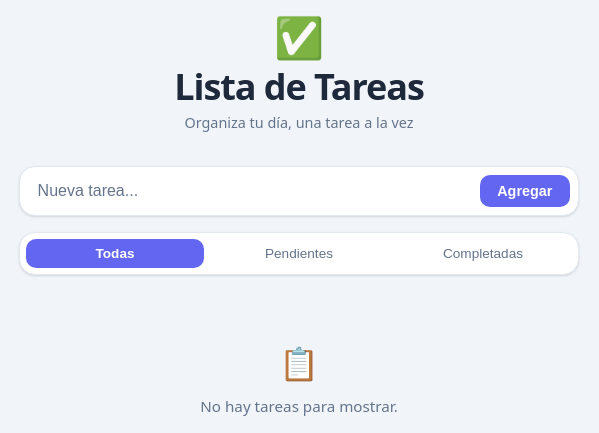
App — filtrar tareas por estado › el filtro "Completadas" muestra solo tareas completadas
Type "Tarea pendiente" into the field with placeholder "Nueva tarea...".
click(250, 191); type("Tarea pendiente")  # box [28,175,472,207]
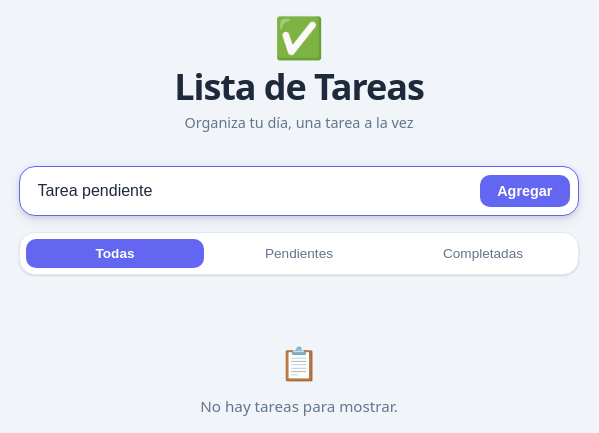
Click the button "Agregar".
click(525, 191)  # box [480,175,570,207]
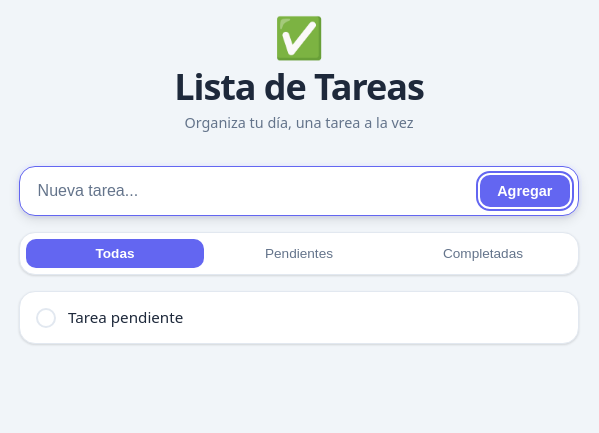
Type "Tarea completada" into the field with placeholder "Nueva tarea...".
click(250, 191); type("Tarea completada")  # box [28,175,472,207]
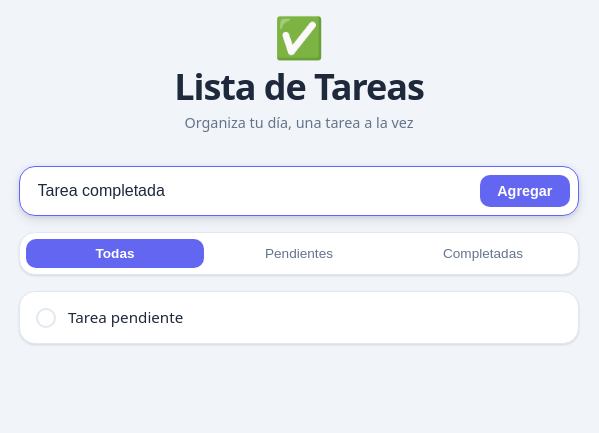
Click the button "Agregar".
click(525, 191)  # box [480,175,570,207]
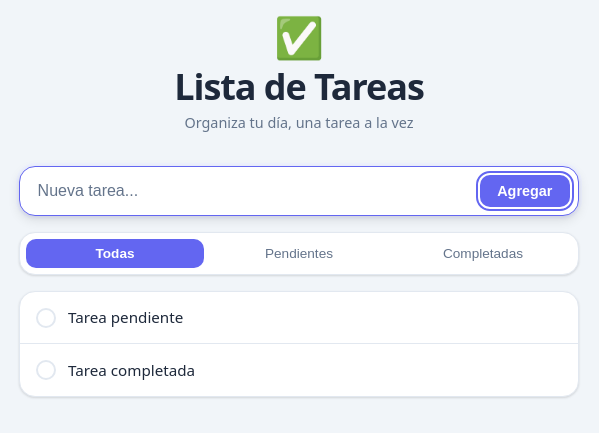
Click the checkbox named "Marcar \"Tarea completada\" como completada".
click(46, 370)  # box [36,360,56,380]
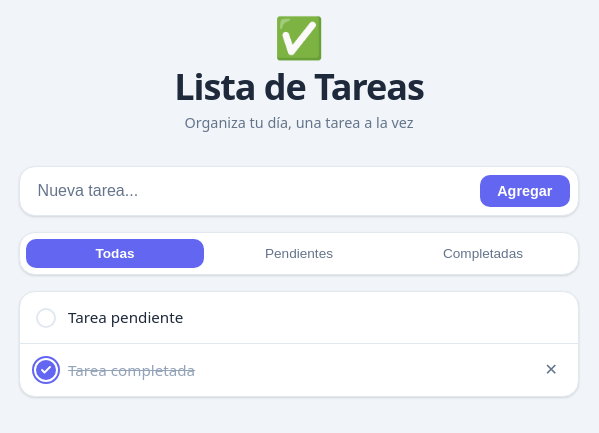
Click the button "Completadas".
click(483, 254)  # box [394,239,572,268]
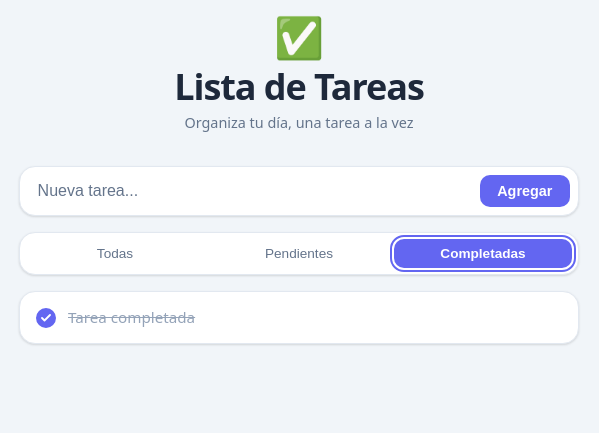
Expected: the text "Tarea completada" is shown, [68,307,195,327]
Expected: the text "Tarea pendiente" is gone
